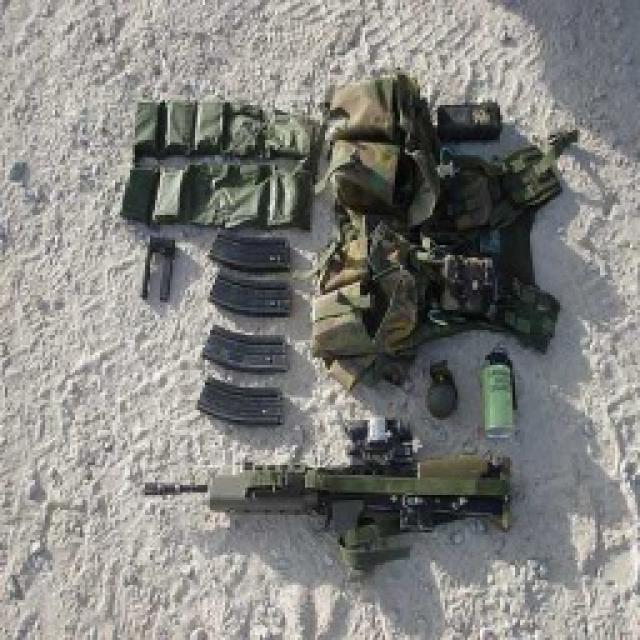long weapon: (121, 440, 525, 548)
